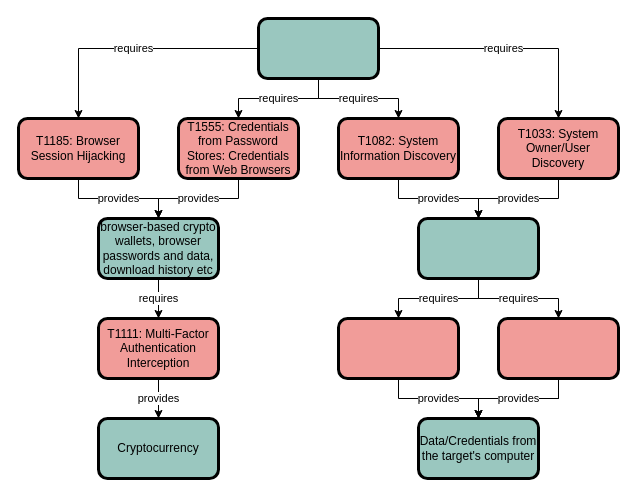
Some shapes in this 637 by 497 pixel diagram are drawn without their labels. Each missing label, with the centre of its shape:
"Spoofing emails" belongs at point (318, 48).
"system information/computer resources" belongs at point (478, 248).
"T1552.001: Unsecured Credentials: Credentials In Files" belongs at point (398, 348).
"T1552.004: Unsecured Credentials: Private Keys" belongs at point (558, 348).
